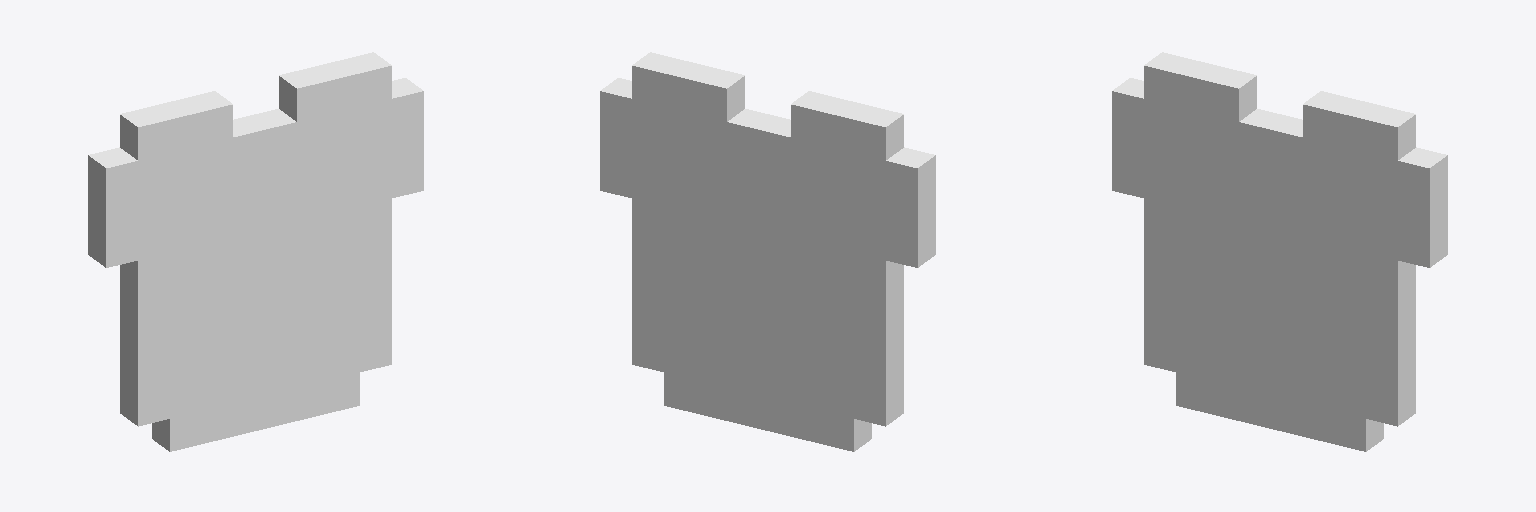
Rendered from Torrada.obj.
The picture shows the model from 3 angles: view 1: azimuth 30°, elevation 25°; view 2: azimuth 150°, elevation 25°; view 3: azimuth 330°, elevation 25°; orthographic projection.
Parts seen in each view (by area): view 1: Model; view 2: Model; view 3: Model.
Part boxes in pixels (x1,y1,x2,y2): Model: (88, 52, 423, 451); Model: (600, 52, 935, 451); Model: (1112, 52, 1447, 451).
Bounding box in the file's own units: 32 × 32 × 3.2.